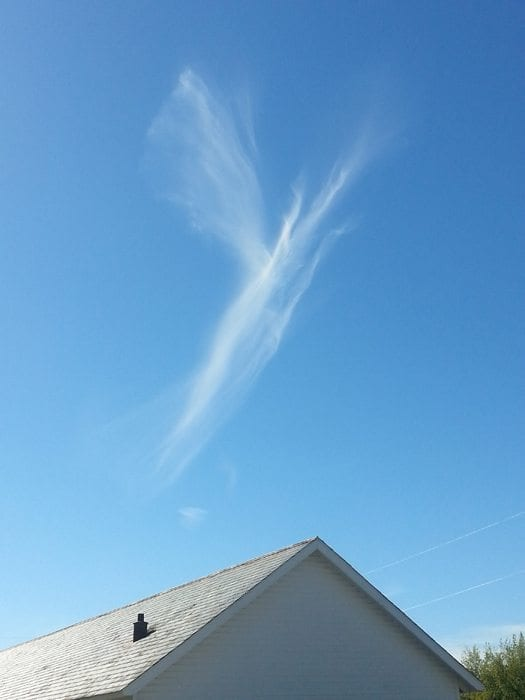Cirrus: (104, 38, 444, 510)
